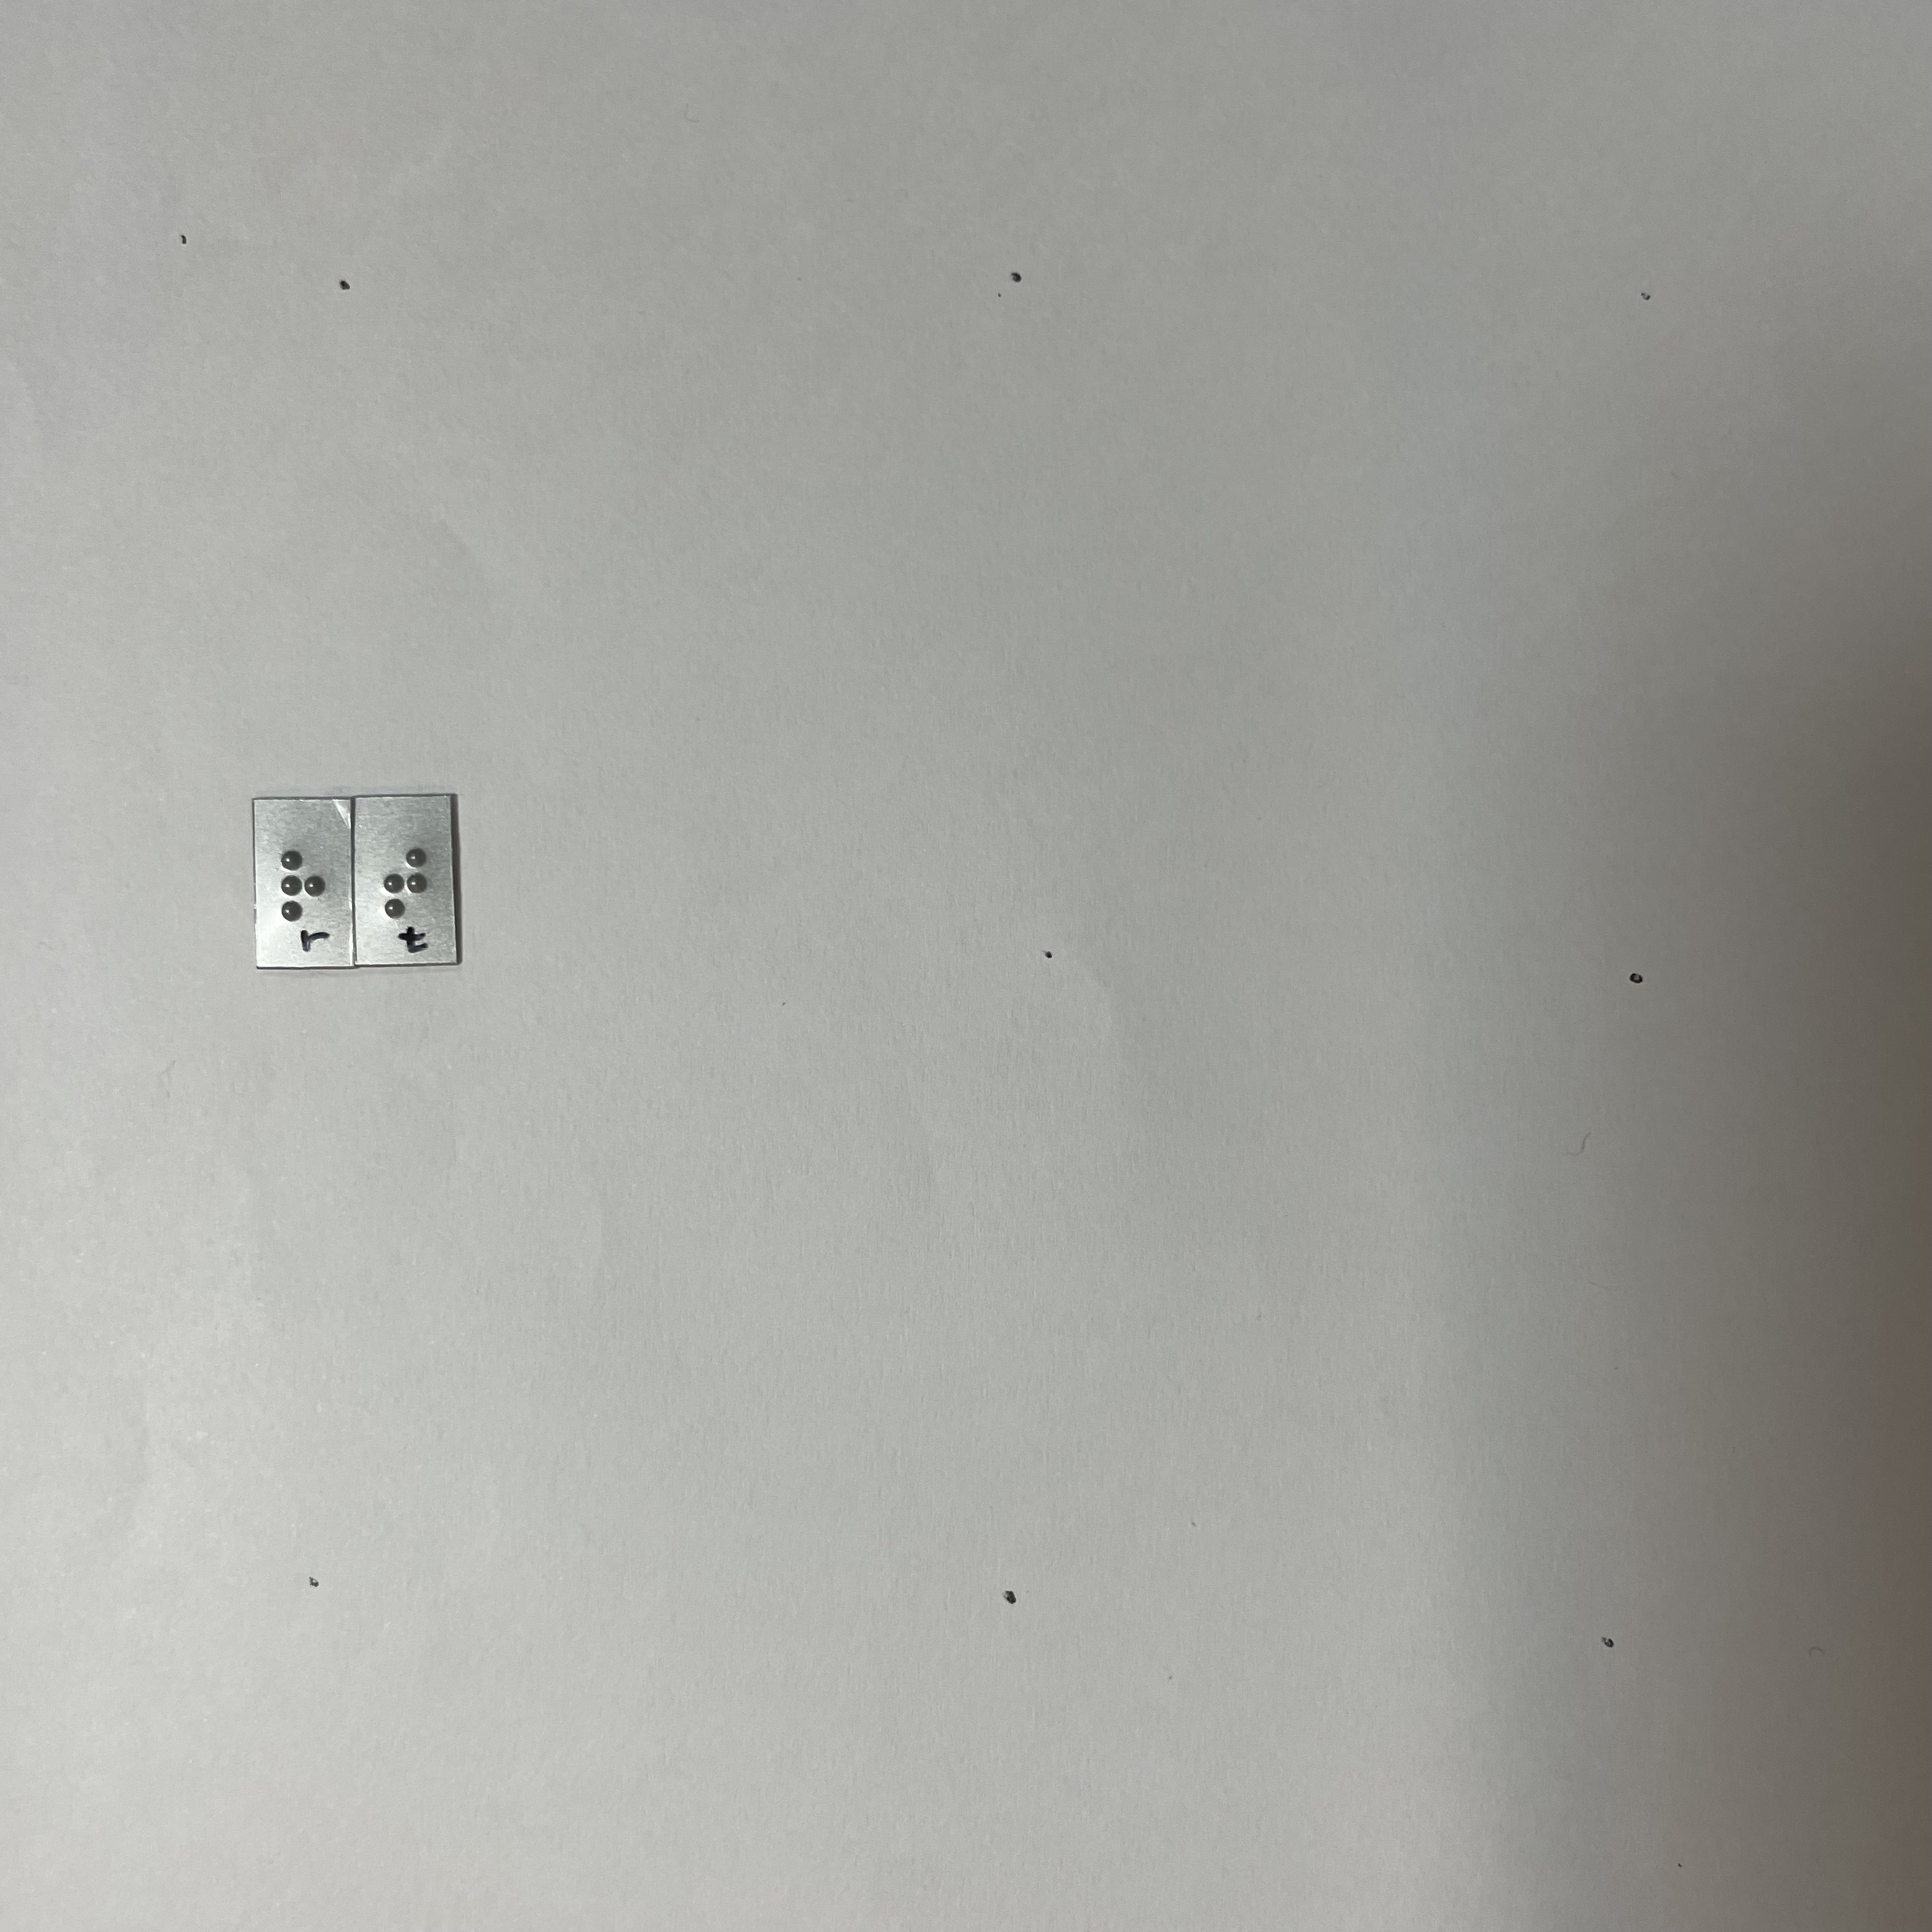r: (269, 837, 335, 931)
t: (375, 839, 430, 921)
